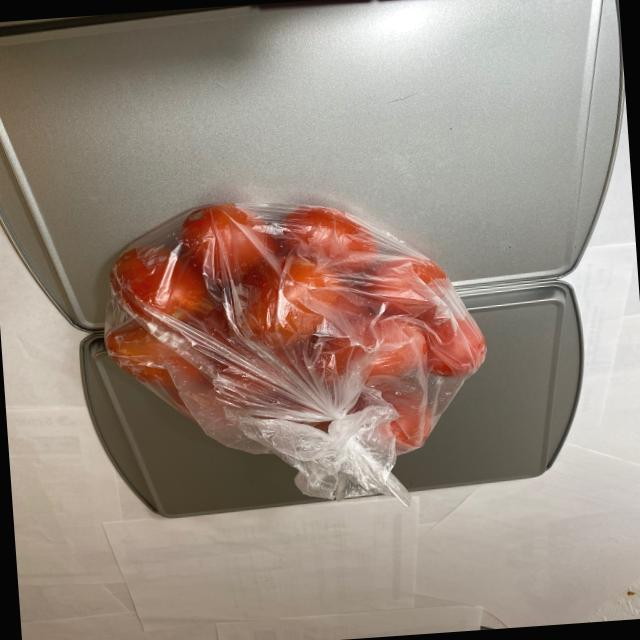tomato: (96, 175, 490, 468)
